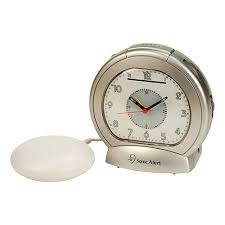alarm_clock: (88, 46, 215, 172), (99, 46, 215, 172)
